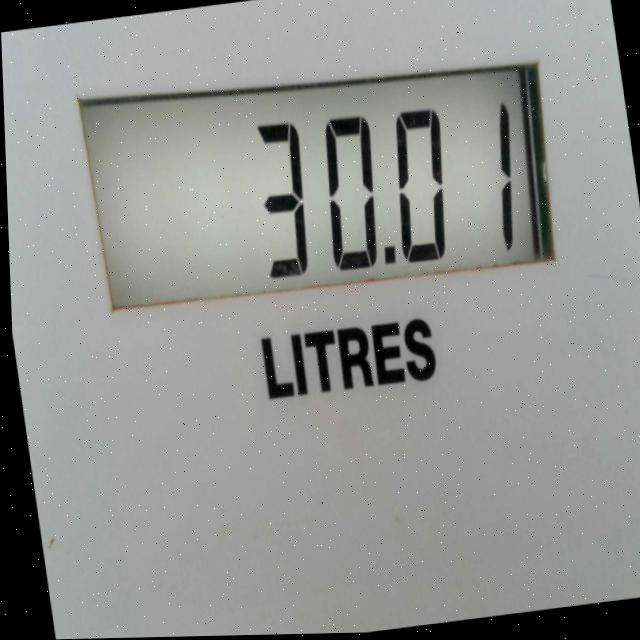.: (370, 231, 400, 283)
0: (369, 100, 462, 288), (306, 101, 389, 286)
1: (452, 84, 524, 267)
3: (236, 111, 328, 286)
